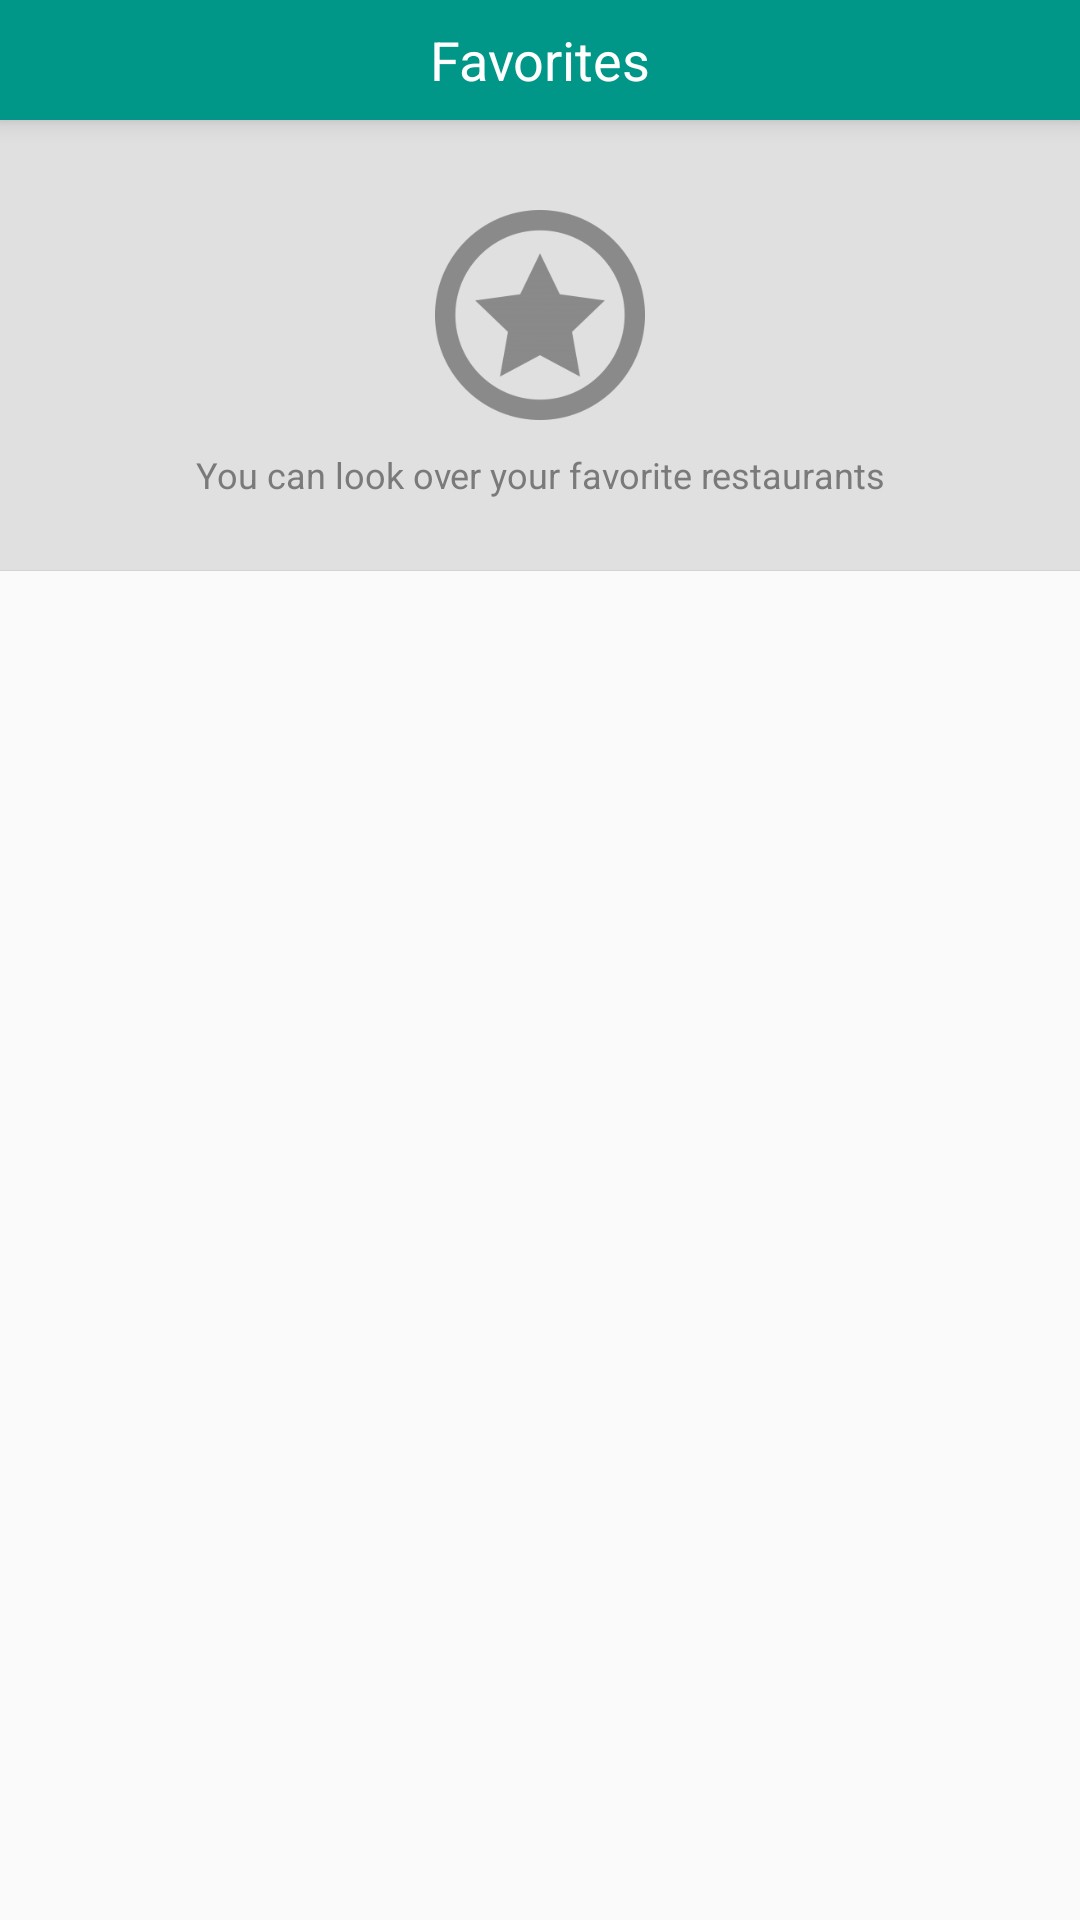

Icon bounding boxes for this 1080x1920 phone screenshot, format box=[x1, y1, x2, y2]:
star: box=[435, 210, 645, 420]
